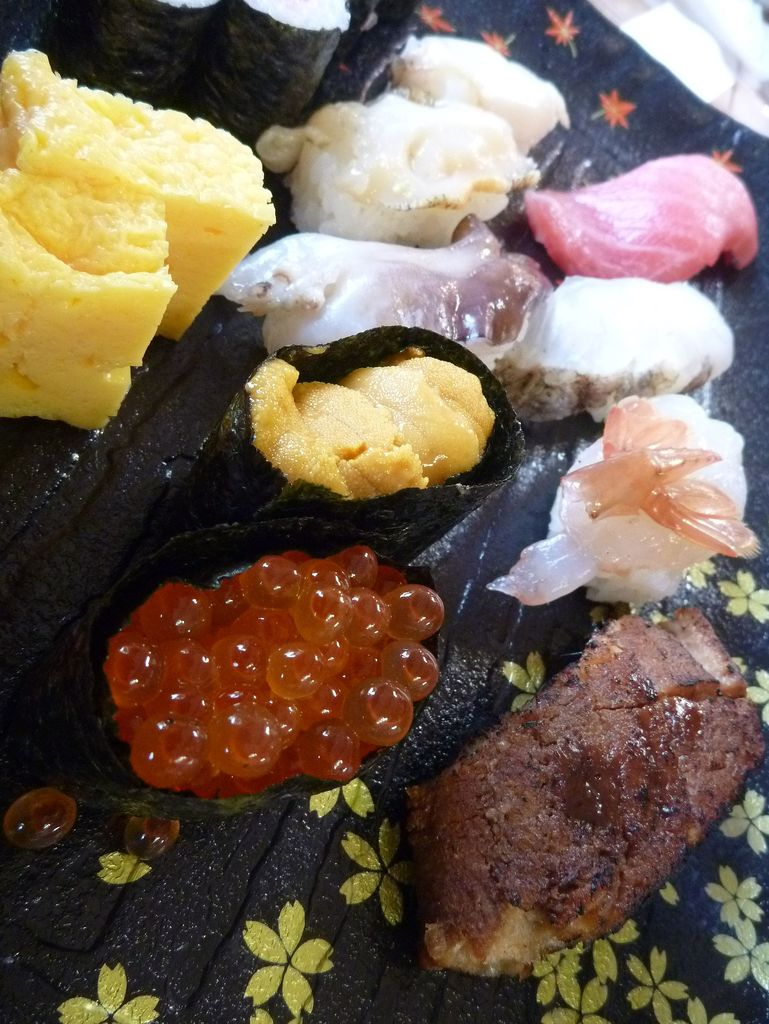sushi: (6, 519, 451, 799), (241, 310, 510, 513)
